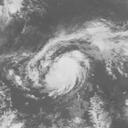cyclone: (26, 30, 92, 98)
